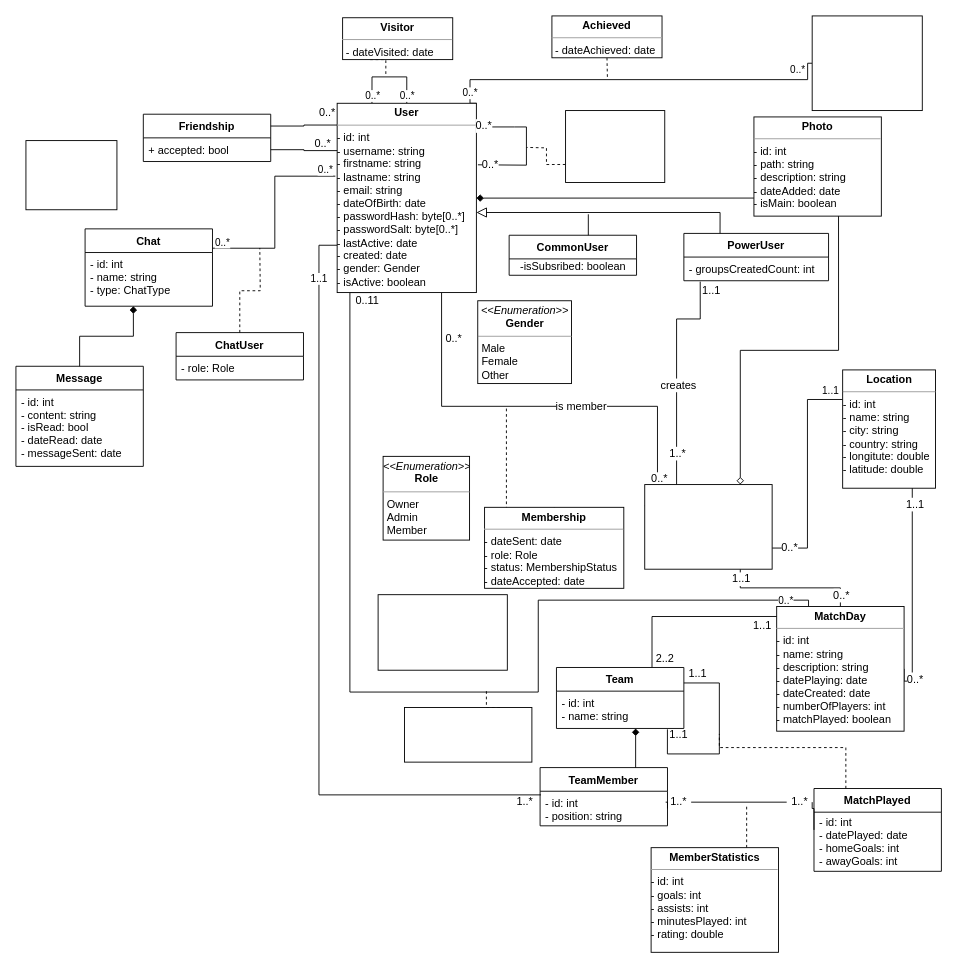
Some shapes in this 957 by 968 pixel diagram are drawn without their labels. Each missing label, with the centre of its shape:
"<<Enumeration>> ChatType Private Public" belongs at (71,175).
"<<Enumeration>> MembershipStatus Sent Accepted" belongs at (442,632).
"Achievement - id: int - value: int - name: string - icon: string - points: int" belongs at (866,63).
"Comment - id: int - content: string - dateCreated: date" belongs at (615,146).
"Group - id: int - name: string - description: string - isActive: boolean" belongs at (708,526).
"MatchStatus - chekedIn: boolean - confirmed: boolean" belongs at (468,734).
